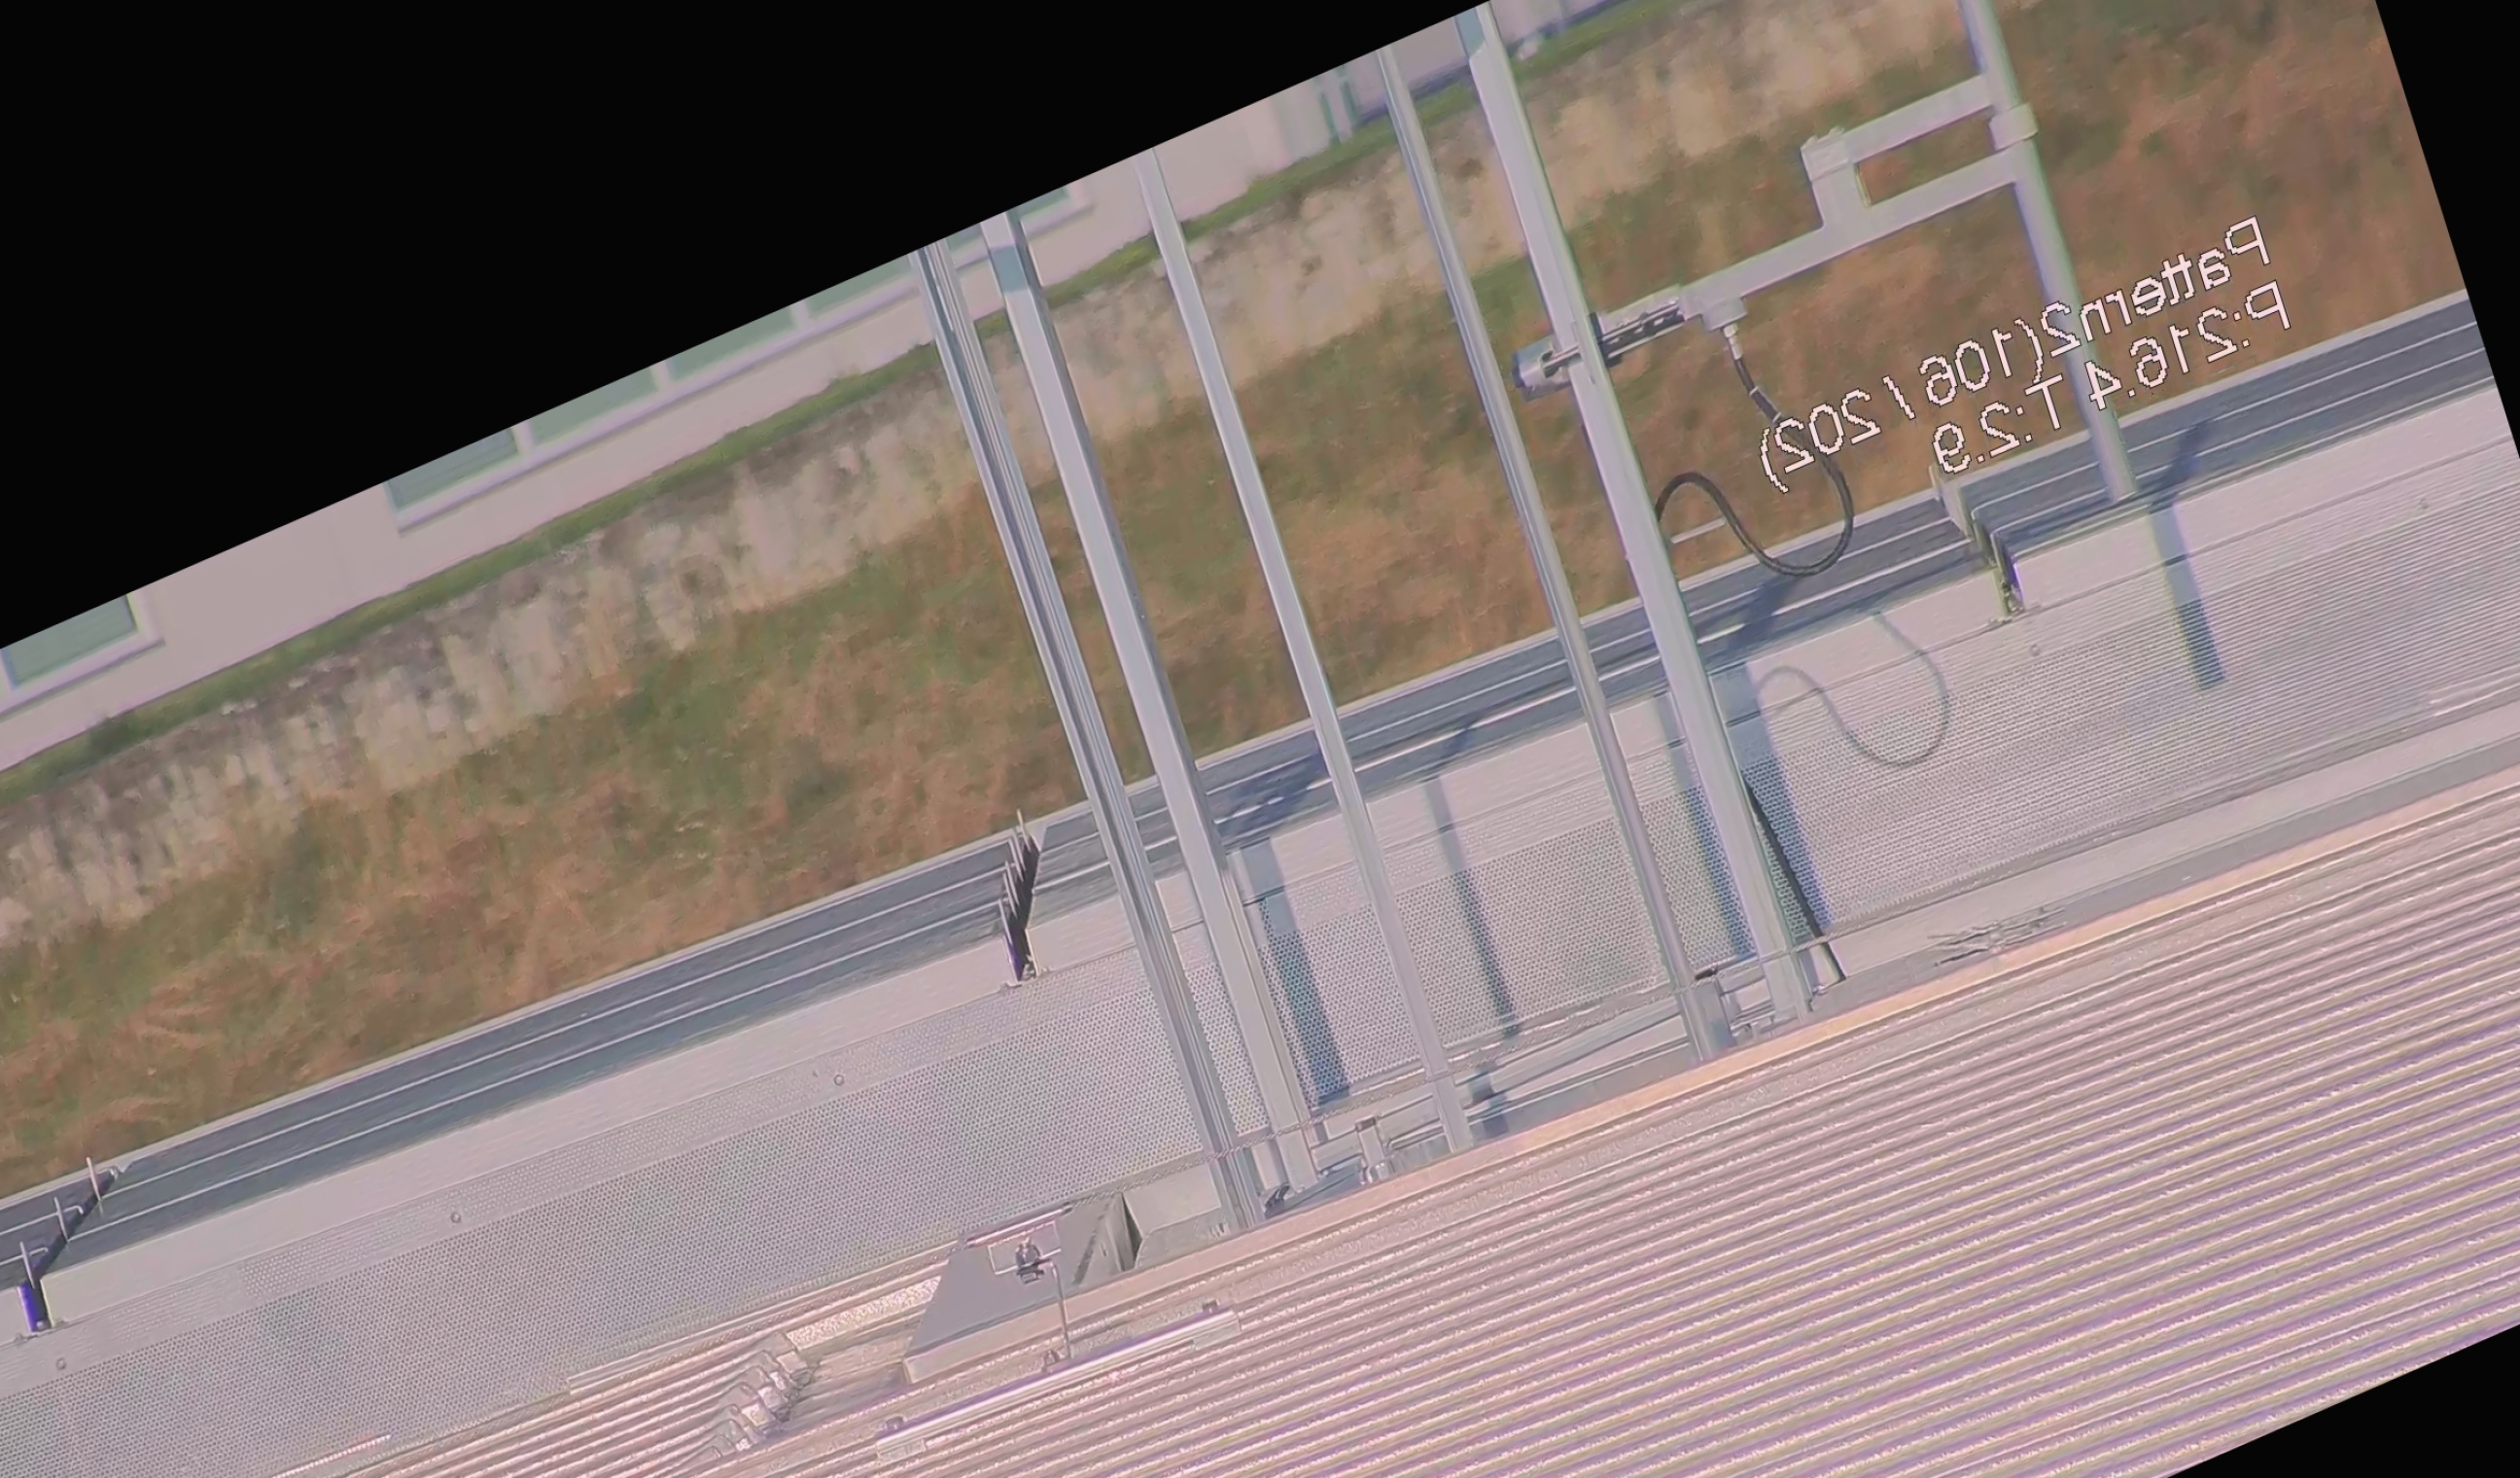Other: (946, 797, 1092, 1006)
